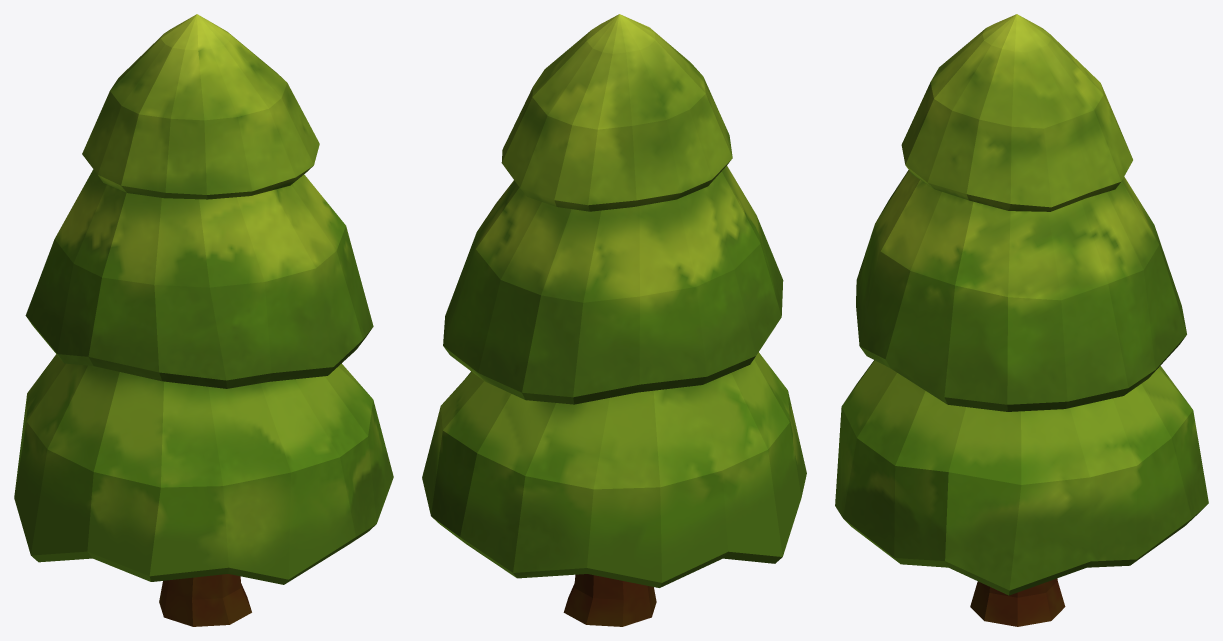
The model's file is Tree2.fbx.
The picture shows the model from 3 angles, left to right: view 1: azimuth 30°, elevation 25°; view 2: azimuth 150°, elevation 25°; view 3: azimuth 270°, elevation 25°; orthographic projection.
Parts seen in each view (by area): view 1: Tree2; view 2: Tree2; view 3: Tree2.
Boxes of the visible parts, <box> form: Tree2: <box>14,14,393,626</box>; Tree2: <box>422,14,806,626</box>; Tree2: <box>835,14,1208,626</box>.
Size of the model in its own units: 2.03 by 3.34 by 1.92.
Materials: 1 (1 with a texture image).
